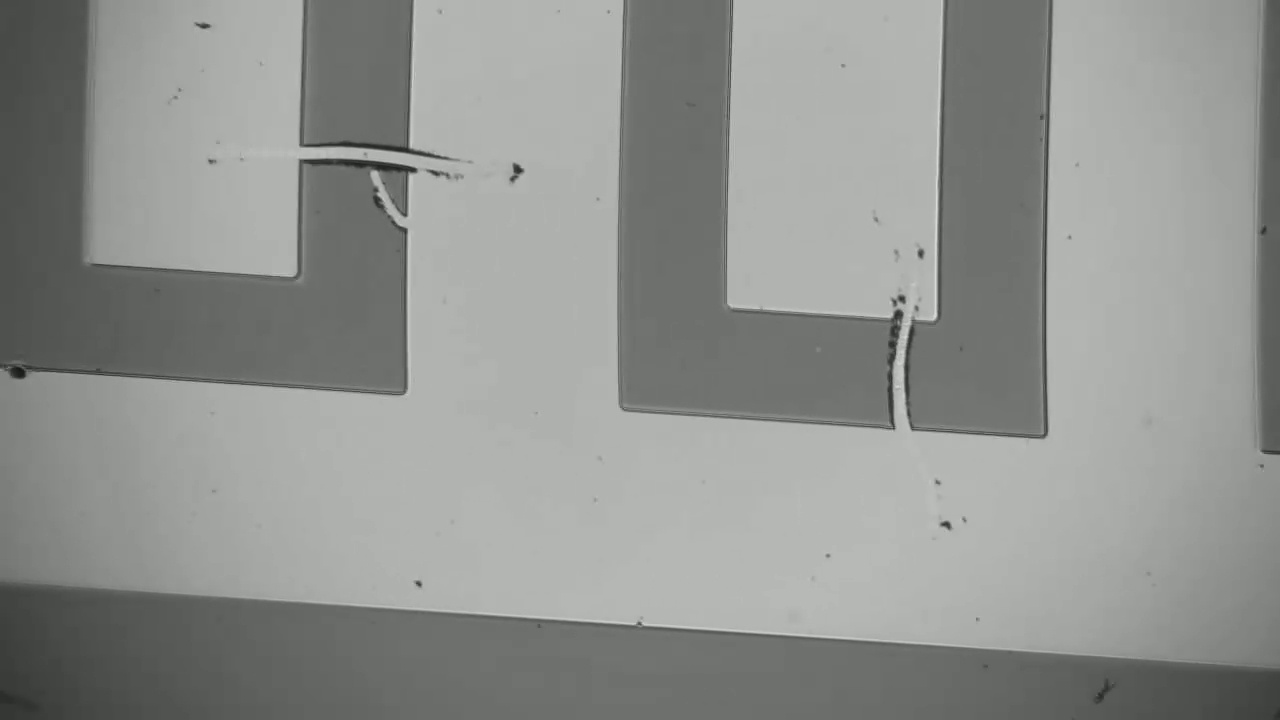Short_circuit: (252, 136, 458, 183), (887, 291, 934, 456)
